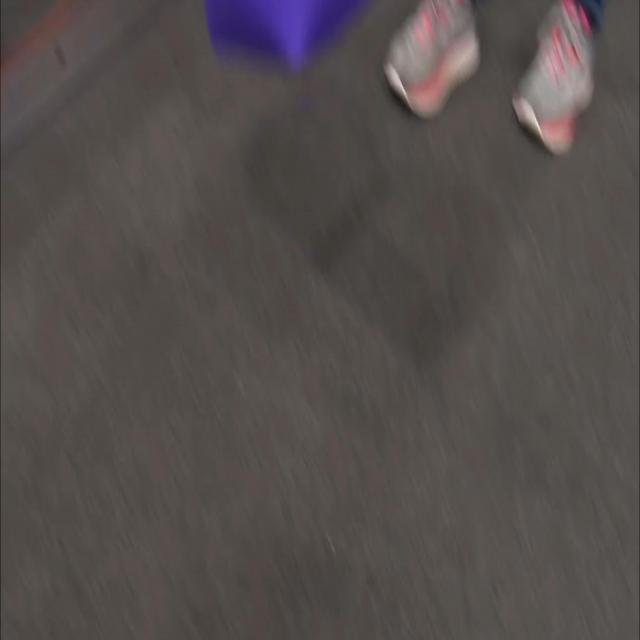frc_cube: (196, 0, 374, 65)
